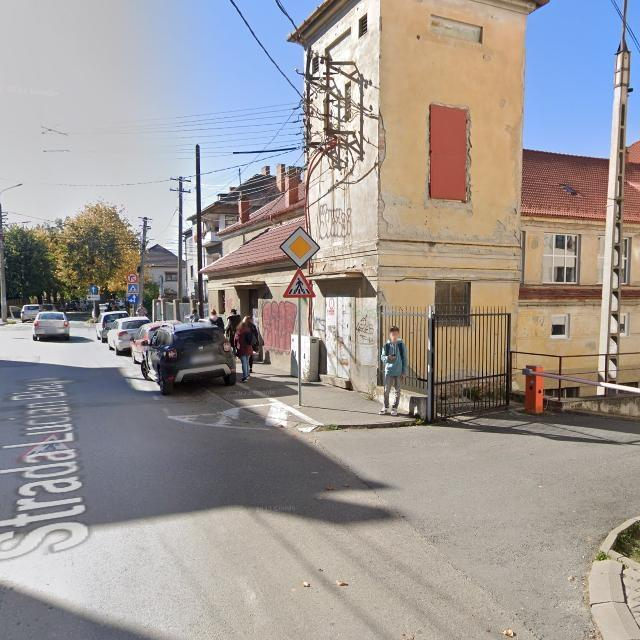warn_crosswalk: (285, 269, 318, 300)
